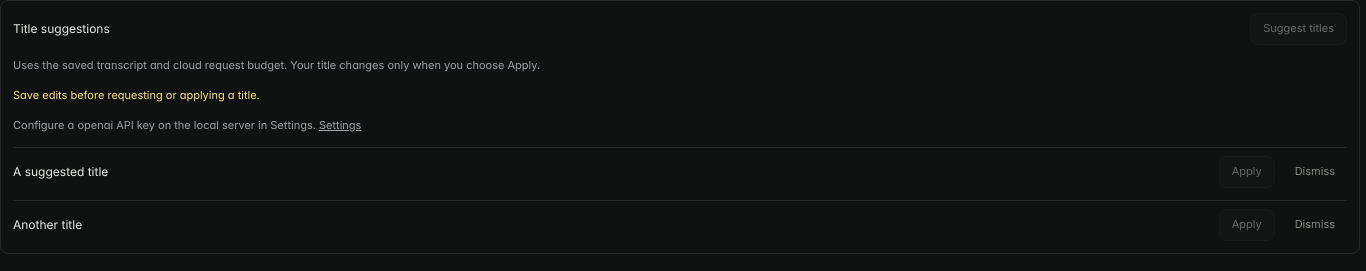
manual titles and truthful usage › dismisses a suggestion locally without changing the title and guards dirty drafts
The width and height of the screenshot is (1366, 271).
Check: the button with aria-label "Apply title: A suggested title" is disabled, box [1219,156,1275,188]
Click the button with aria-label "Dismiss title: A suggested title".
click(1315, 172)  # box [1283,156,1347,188]
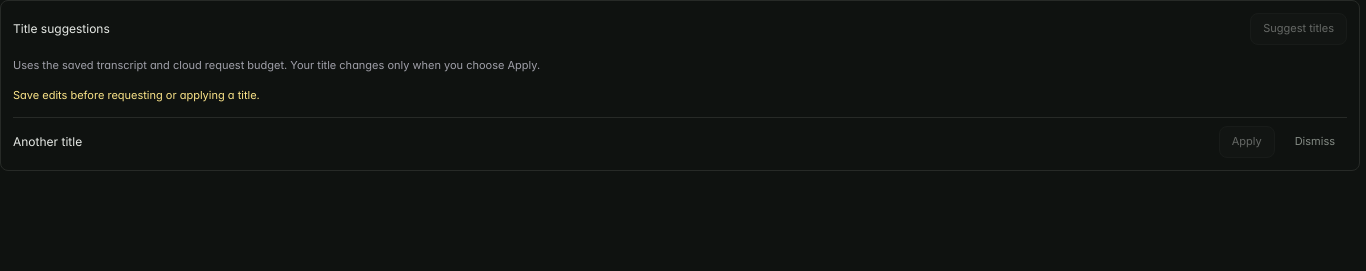
Check: the text "A suggested title" is gone
